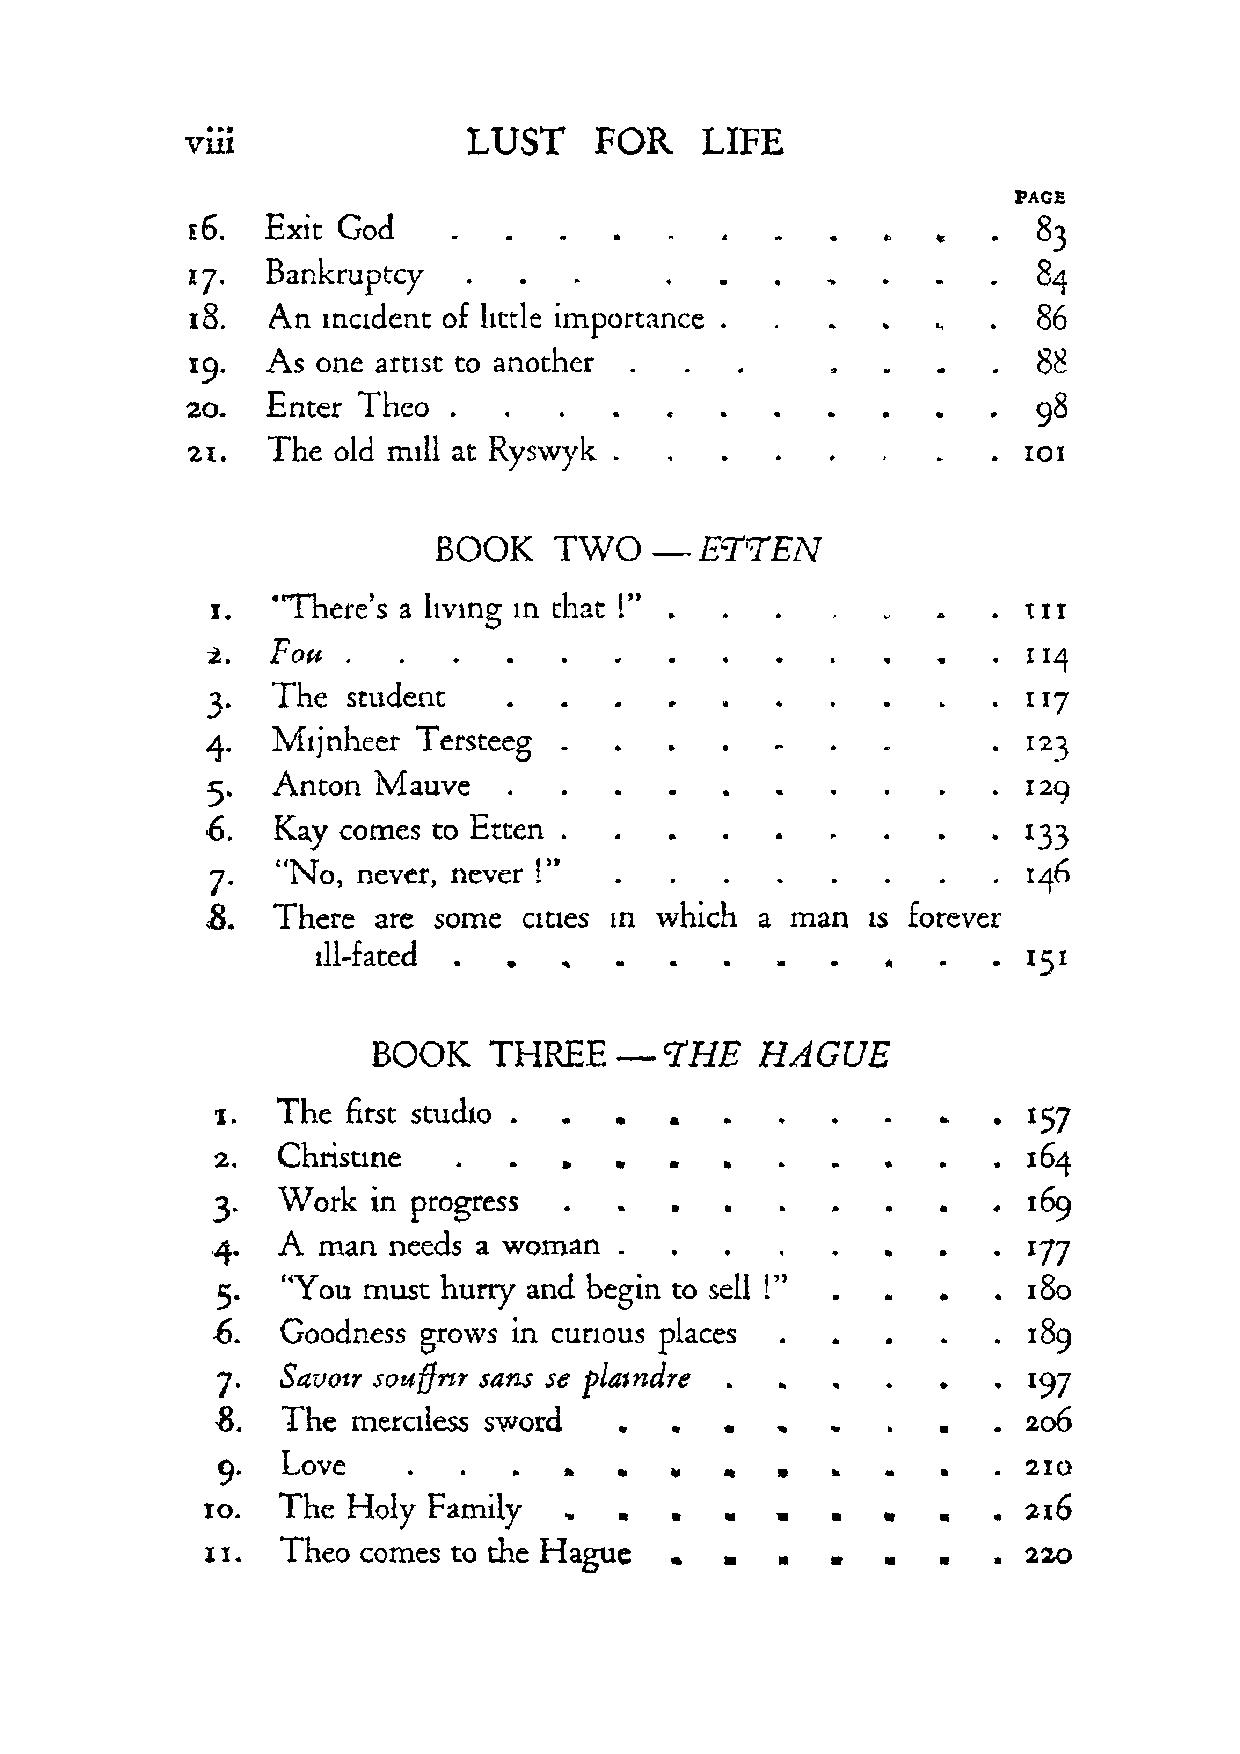TOC_chapter: (207, 905, 1001, 972), (368, 1032, 892, 1078), (213, 1275, 790, 1312), (431, 519, 823, 574), (213, 1312, 738, 1353), (180, 303, 709, 340), (205, 580, 647, 623), (203, 851, 564, 900), (203, 1534, 633, 1574), (213, 1359, 691, 1396), (183, 435, 597, 476), (209, 1228, 600, 1268), (184, 345, 599, 382), (207, 722, 535, 764), (204, 1087, 495, 1133), (199, 1491, 522, 1531), (215, 1402, 564, 1439), (204, 815, 548, 849), (209, 1186, 518, 1224), (201, 768, 476, 809), (197, 678, 455, 721), (183, 258, 428, 298), (183, 207, 403, 248), (183, 391, 436, 424), (211, 1143, 411, 1172), (213, 1448, 352, 1482), (204, 633, 331, 667)
TOC_pagenumber: (1023, 1180, 1072, 1223), (1023, 1312, 1074, 1354), (1023, 855, 1078, 892), (1023, 1488, 1076, 1526), (1023, 941, 1071, 981), (1023, 1401, 1072, 1439), (1019, 774, 1076, 807), (1019, 1096, 1070, 1133), (1021, 1448, 1076, 1482), (1033, 205, 1071, 254), (1020, 1271, 1074, 1304), (1019, 437, 1076, 468), (1024, 1139, 1070, 1177), (1023, 635, 1070, 671), (1019, 729, 1068, 762), (1024, 1365, 1070, 1401), (1023, 815, 1071, 848), (1023, 1233, 1071, 1267), (1023, 682, 1068, 717), (1016, 595, 1068, 624), (1024, 1543, 1076, 1571), (1035, 255, 1070, 297), (1033, 388, 1068, 429), (1033, 342, 1068, 376), (1037, 302, 1070, 334)
chapter: (459, 111, 796, 162)
